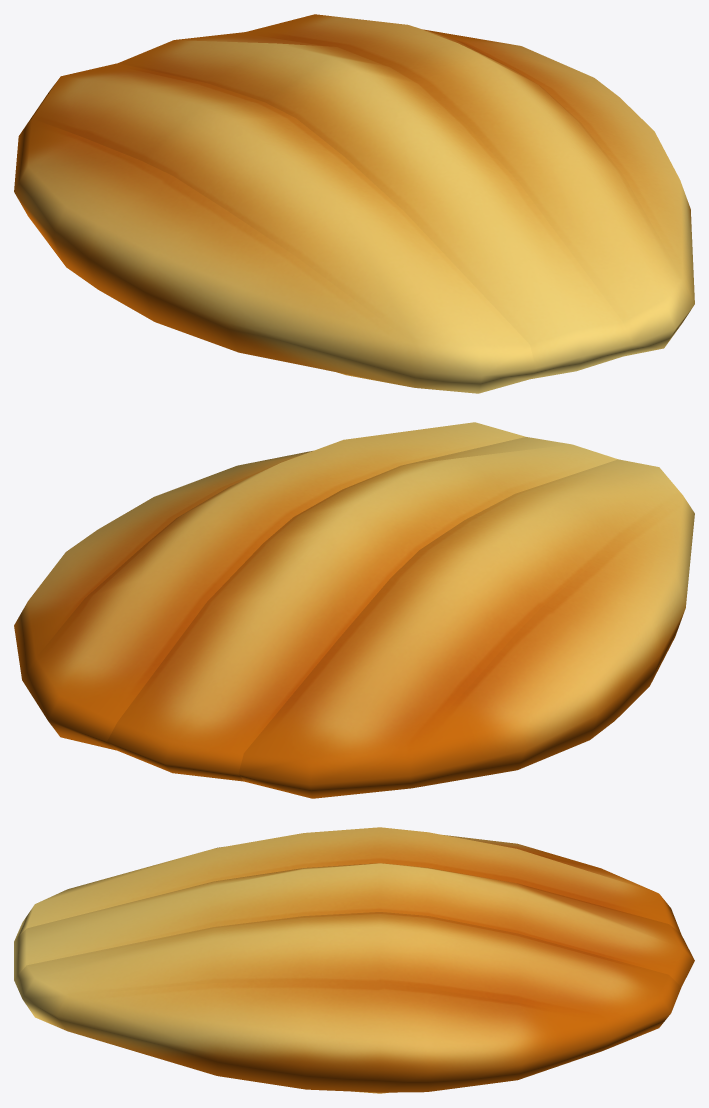
File: Madeleine_01.fbx
3 renders of one model, top to bottom at view 1: azimuth 30°, elevation 25°; view 2: azimuth 150°, elevation 25°; view 3: azimuth 270°, elevation 25°, orthographic. The views are drawn at different scales.
Parts seen in each view (by area): view 1: Madeleine_01; view 2: Madeleine_01; view 3: Madeleine_01.
Part boxes in pixels (x1,y1,x2,y2): Madeleine_01: [14, 14, 694, 393]; Madeleine_01: [14, 422, 694, 798]; Madeleine_01: [14, 827, 694, 1093].
Bounding box in the file's own units: 26.96 × 11.03 × 35.56.
